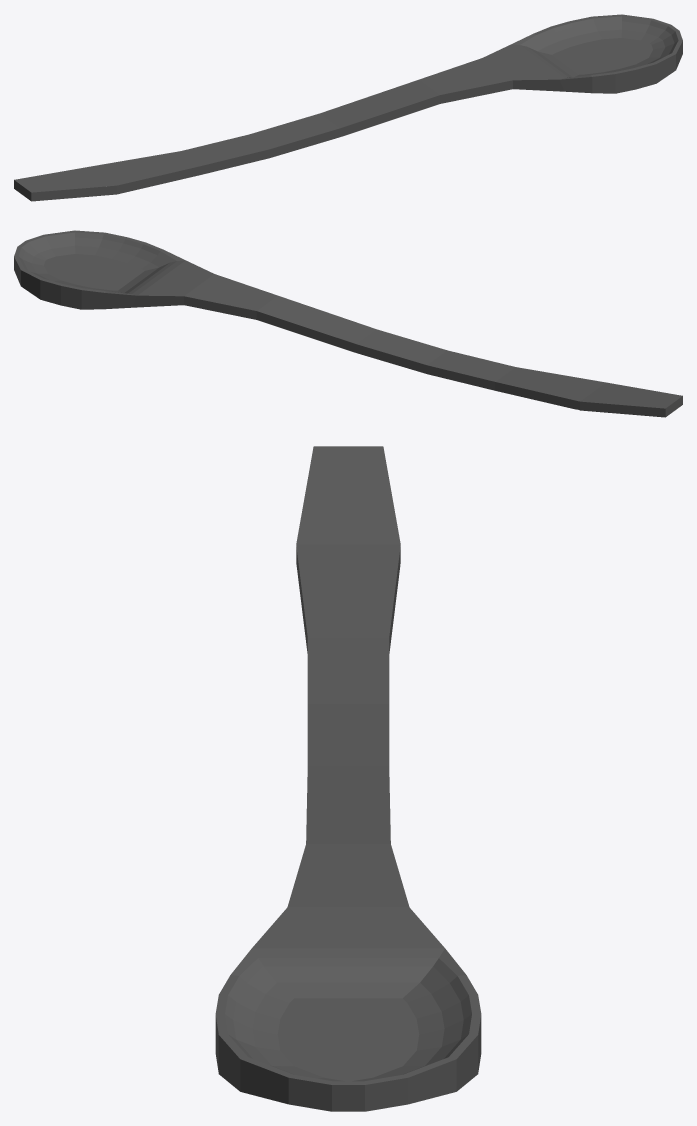
File: Spoon Textured.fbx
3 views of the same model, one above another, from view 1: azimuth 30°, elevation 25°; view 2: azimuth 150°, elevation 25°; view 3: azimuth 270°, elevation 25° (orthographic). The views are drawn at different scales.
Visible parts, largest first — view 1: Box001; view 2: Box001; view 3: Box001.
Boxes of the visible parts, <box> form: Box001: <box>14,14,682,201</box>; Box001: <box>14,230,682,417</box>; Box001: <box>215,446,481,1111</box>.
Bounding box in the file's own units: 2.48 × 0.0854 × 0.4366.
Materials: 1 (1 with a texture image).
